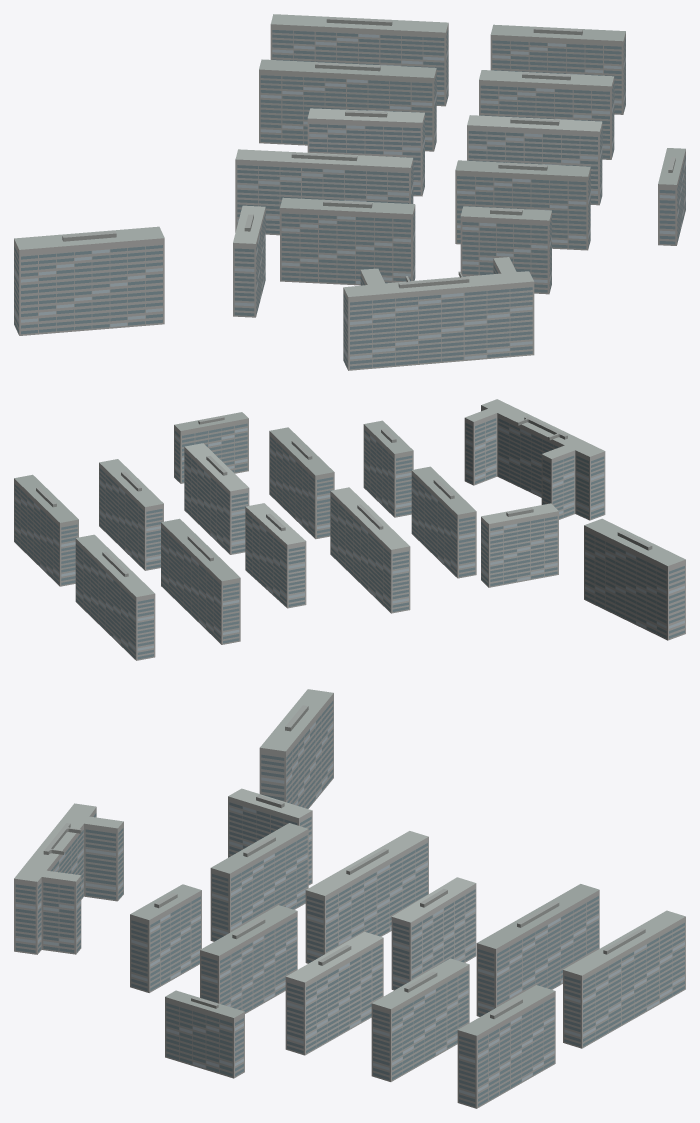
Rendered from apt-a15780604.glb.
3 renders of one model, top to bottom at view 1: azimuth 30°, elevation 25°; view 2: azimuth 150°, elevation 25°; view 3: azimuth 270°, elevation 25°, orthographic. The views are drawn at different scales.
Parts seen in each view (by area): view 1: apt-a15780604; view 2: apt-a15780604; view 3: apt-a15780604.
Boxes of the visible parts, box(x1,y1,x2,y2) form: apt-a15780604: box(14, 14, 685, 370); apt-a15780604: box(14, 399, 685, 660); apt-a15780604: box(14, 689, 685, 1108).
Bounding box in the file's own units: 385 × 47.81 × 327.
